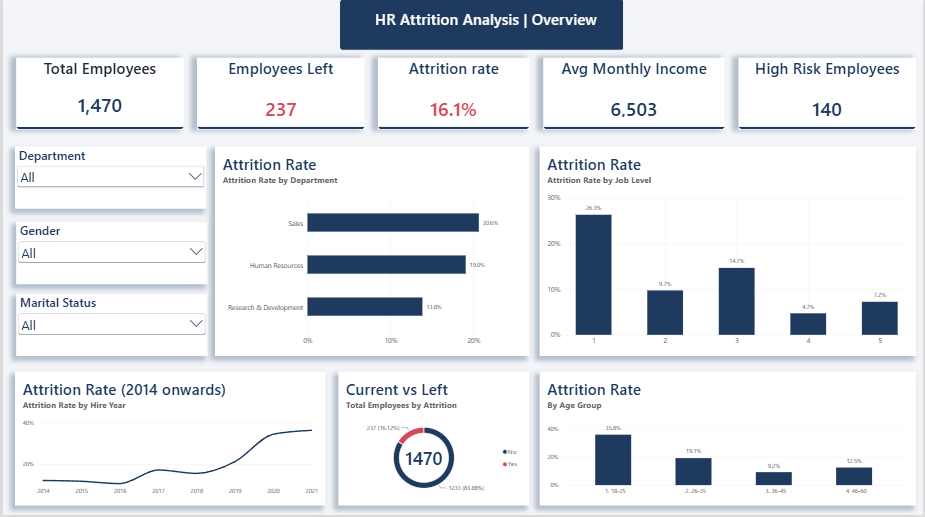

Layout of this report page (visuals, bound fields, positions):
{"tool":"powerbi","page":{"name":"Overview","canvas":[1920,1080],"ordinal":0},"visuals":[{"type":"shape","box":[702.5,0,593.1,107.5],"z":0},{"type":"textbox","box":[719.8,21,575.8,59.5],"z":1000},{"type":"slicer","fields":{"Values":["Employees.Department"]},"box":[25,306.4,400,130],"z":2000},{"type":"slicer","fields":{"Values":["Employees.Gender"]},"box":[27.1,464.7,400,130],"z":3000},{"type":"slicer","fields":{"Values":["Employees.Marital Status"]},"box":[27.1,614.8,400,130],"z":4000},{"type":"cardVisual","title":"Total Employees","fields":{"Data":["_Measures.Total Employees Label"]},"box":[27.1,123,350,150],"z":5000},{"type":"cardVisual","title":"Employees Left","fields":{"Data":["_Measures.Employees Left"]},"box":[405,122.8,350,150],"z":6000},{"type":"cardVisual","title":"Attrition rate","fields":{"Data":["_Measures.Attrition Rate"]},"box":[782.4,123,316.8,150],"z":7000},{"type":"cardVisual","title":"Avg Monthly Income","fields":{"Data":["_Measures.Avg Monthly Income Label"]},"box":[1126.9,123,379.3,150],"z":8000},{"type":"cardVisual","title":"High Risk Employees","fields":{"Data":["_Measures.High Risk Current Employees"]},"box":[1533.8,123,371,150],"z":9000},{"type":"clusteredBarChart","title":"Attrition Rate","fields":{"Category":["Employees.Department"],"Y":["_Measures.Attrition Rate"]},"box":[441.8,306.4,656.5,437.6],"z":10000},{"type":"donutChart","title":"Current vs Left","fields":{"Category":["Employees.Attrition"],"Y":["_Measures.Total Employees"]},"box":[700.2,777.3,398,279.3],"z":11000},{"type":"clusteredColumnChart","title":"Attrition Rate","fields":{"Category":["Employees.Age Group"],"Y":["_Measures.Attrition Rate"]},"box":[1119.1,777.3,785.7,279.3],"z":12000},{"type":"lineChart","title":"Attrition Rate (2014 onwards)","fields":{"Category":["Employees.Hire Year"],"Y":["_Measures.Attrition Rate"]},"box":[25,777.3,648.1,279.3],"z":13000},{"type":"clusteredColumnChart","title":"Attrition Rate","fields":{"Category":["Employees.Job Level"],"Y":["_Measures.Attrition Rate"]},"box":[1119.1,306.4,785.7,437.6],"z":14000}]}

Visuals, with their boxes in screenshot pixels (x1, y1, x2, y2), scaled from the page's 1920x1080 canvas onto the 925x517 screenshot:
shape: 338, 0, 624, 51
textbox: 347, 10, 624, 39
slicer - Employees.Department: 12, 147, 205, 209
slicer - Employees.Gender: 13, 222, 206, 285
slicer - Employees.Marital Status: 13, 294, 206, 357
"Total Employees" cardVisual: 13, 59, 182, 131
"Employees Left" cardVisual: 195, 59, 364, 131
"Attrition rate" cardVisual: 377, 59, 530, 131
"Avg Monthly Income" cardVisual: 543, 59, 726, 131
"High Risk Employees" cardVisual: 739, 59, 918, 131
"Attrition Rate" clusteredBarChart: 213, 147, 529, 356
"Current vs Left" donutChart: 337, 372, 529, 506
"Attrition Rate" clusteredColumnChart: 539, 372, 918, 506
"Attrition Rate (2014 onwards)" lineChart: 12, 372, 324, 506
"Attrition Rate" clusteredColumnChart: 539, 147, 918, 356
